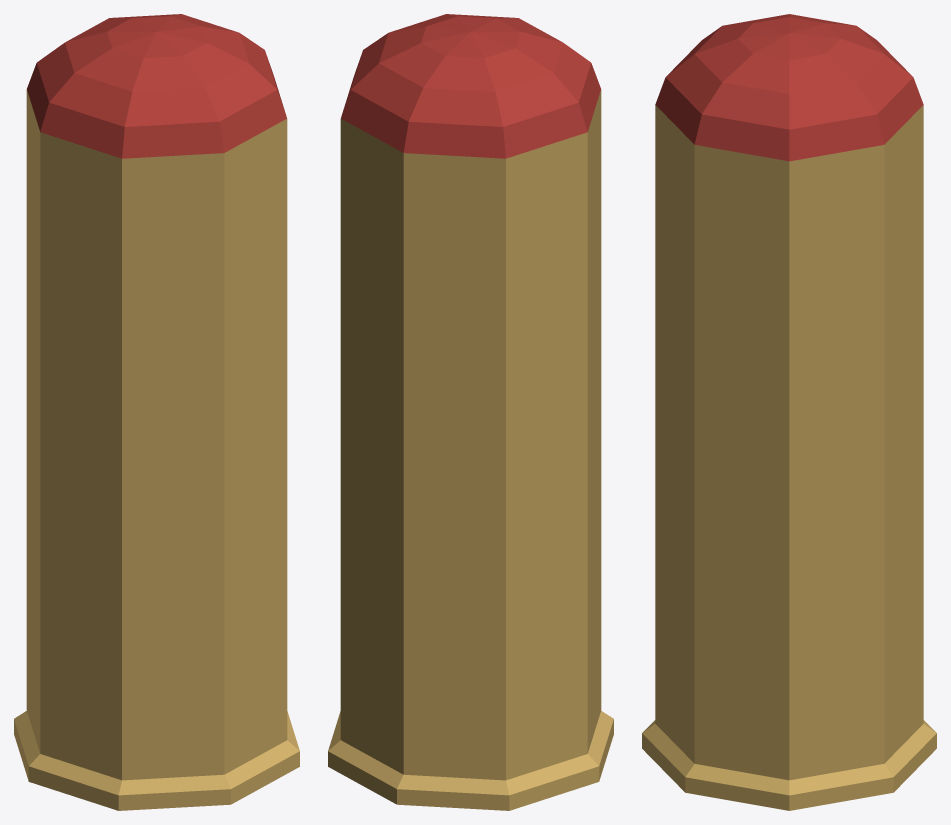
The model's file is round_12ga.glb.
3 views of the same model, side by side, from view 1: azimuth 30°, elevation 25°; view 2: azimuth 150°, elevation 25°; view 3: azimuth 270°, elevation 25° (orthographic).
Parts seen in each view (by area): view 1: round_12ga; view 2: round_12ga; view 3: round_12ga.
Boxes of the visible parts, left/top/right/bottom form: round_12ga: left=14, top=14, right=299, bottom=810; round_12ga: left=328, top=14, right=613, bottom=810; round_12ga: left=642, top=14, right=936, bottom=810.
Bounding box in the file's own units: 0.0224 × 0.06 × 0.0224.
